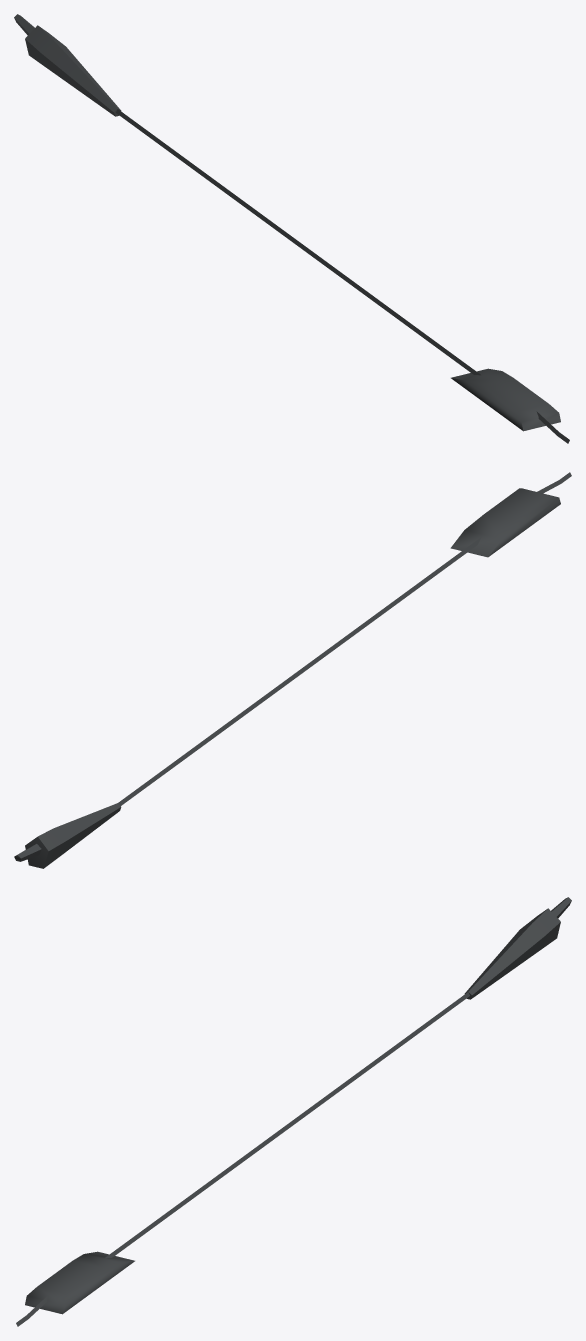
File: S300_BOJ_02.glb
3 renders of one model, top to bottom at view 1: azimuth 30°, elevation 25°; view 2: azimuth 150°, elevation 25°; view 3: azimuth 330°, elevation 25°, orthographic.
Parts seen in each view (by area): view 1: yane02; view 2: yane02; view 3: yane02.
Boxes of the visible parts, x1,y1,x2,y2 form: yane02: [14, 14, 569, 443]; yane02: [14, 472, 571, 868]; yane02: [16, 897, 571, 1326].
Size of the model in its own units: 1.69 by 1.39 by 43.01.
Materials: 1 (1 with a texture image).
